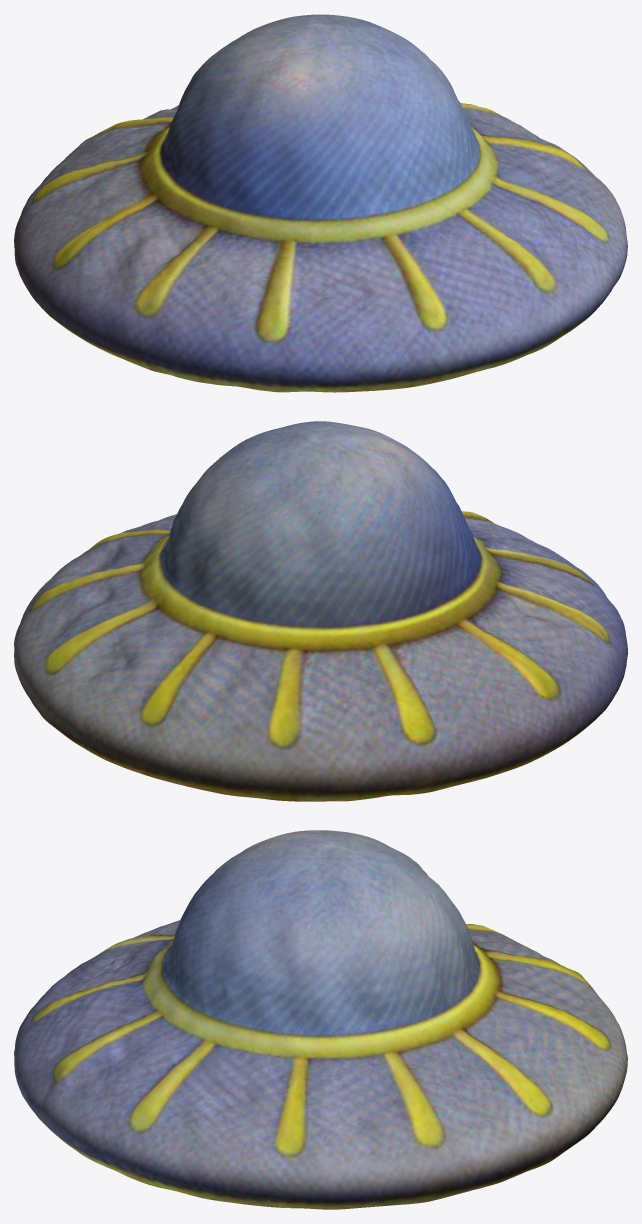
File: card_6.glb
The picture shows the model from 3 angles, top to bottom: view 1: azimuth 30°, elevation 25°; view 2: azimuth 150°, elevation 25°; view 3: azimuth 270°, elevation 25°; orthographic projection.
Visible parts, largest first — view 1: Mesh1; view 2: Mesh1; view 3: Mesh1.
Boxes of the visible parts, x1,y1,x2,y2 form: Mesh1: (14,14,627,392); Mesh1: (14,421,627,801); Mesh1: (14,830,627,1209).
Size of the model in its own units: 1.2 by 0.652 by 1.2.
1 material, 1 textured.
